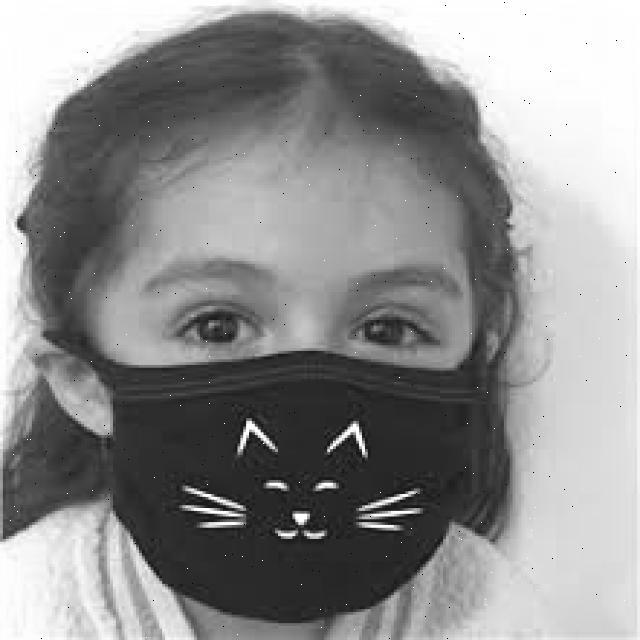fake: (14, 316, 508, 622)
real: (97, 136, 478, 625)
